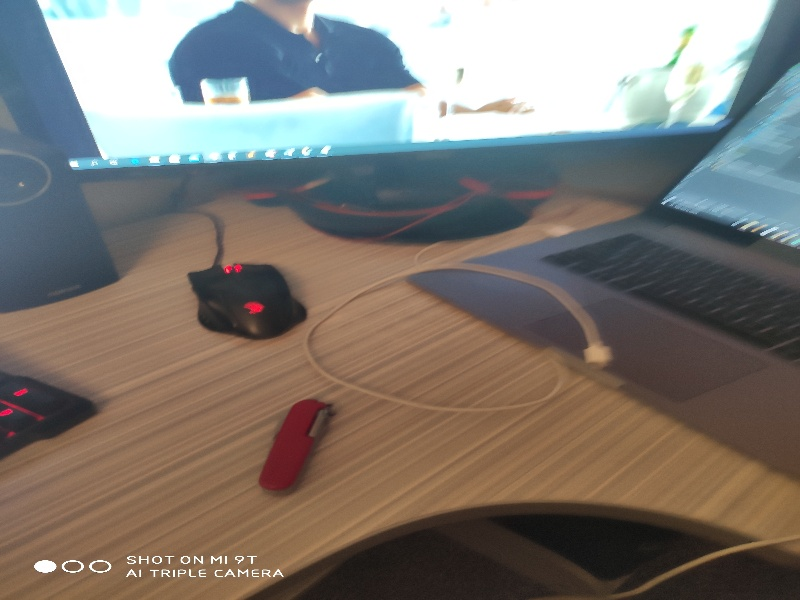knife: (255, 391, 335, 508)
